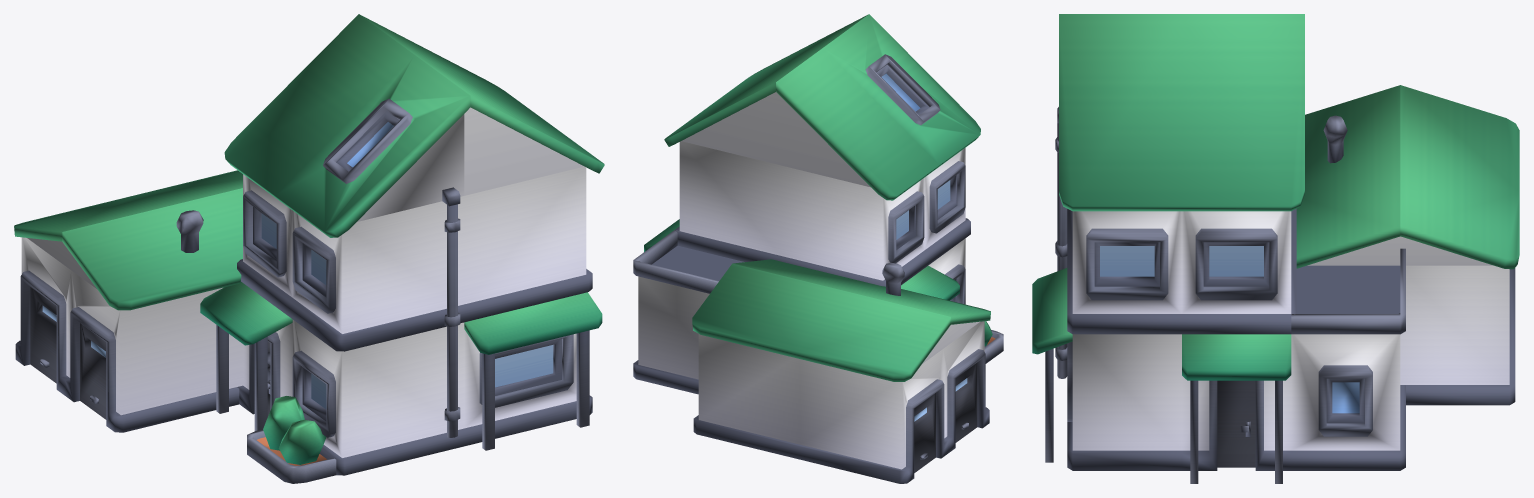
The model's file is n1_building-type-n_lev1.glb.
3 views of the same model, side by side, from view 1: azimuth 30°, elevation 25°; view 2: azimuth 150°, elevation 25°; view 3: azimuth 270°, elevation 25° (orthographic). The views are drawn at different scales.
Visible parts, largest first — view 1: n1_building-type-n_lev1; view 2: n1_building-type-n_lev1; view 3: n1_building-type-n_lev1.
Boxes of the visible parts, bbox=[...] form: n1_building-type-n_lev1: bbox=[14, 14, 604, 483]; n1_building-type-n_lev1: bbox=[633, 14, 1003, 483]; n1_building-type-n_lev1: bbox=[1032, 14, 1519, 483].
Bounding box in the file's own units: 10.68 × 8.56 × 9.74.
Materials: 1 (1 with a texture image).
